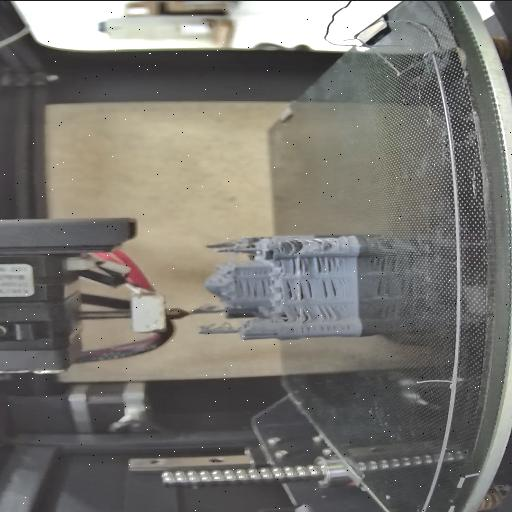cracks: (290, 256, 340, 274), (283, 277, 314, 301), (240, 278, 270, 298), (290, 323, 354, 332), (288, 304, 314, 322), (318, 277, 340, 297), (319, 304, 339, 320), (280, 238, 303, 251), (308, 239, 332, 250)
